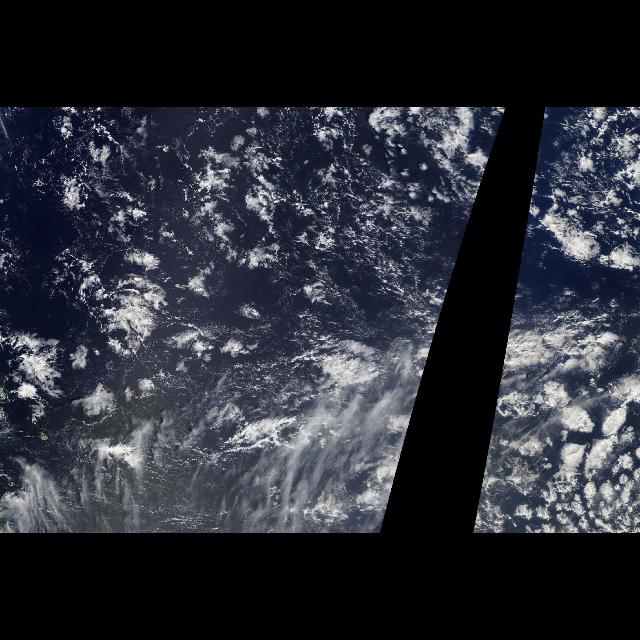Flower: (509, 389, 637, 529)
